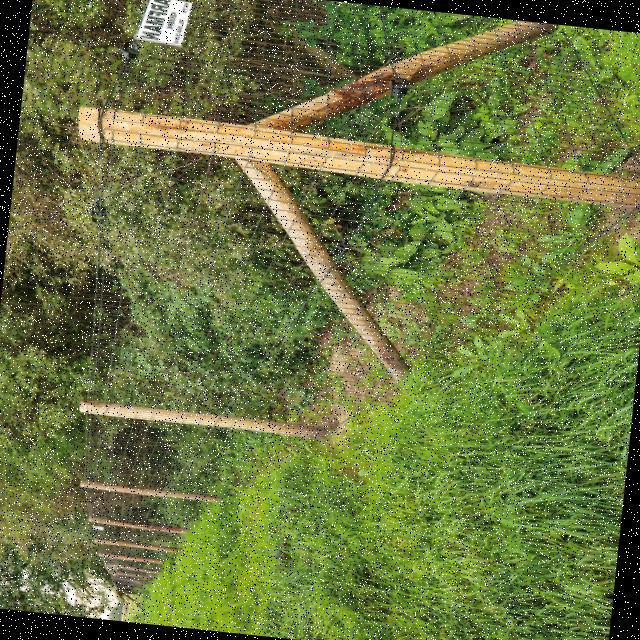fence line: (64, 105, 617, 464), (75, 0, 639, 211), (77, 374, 267, 521), (81, 481, 177, 598)
